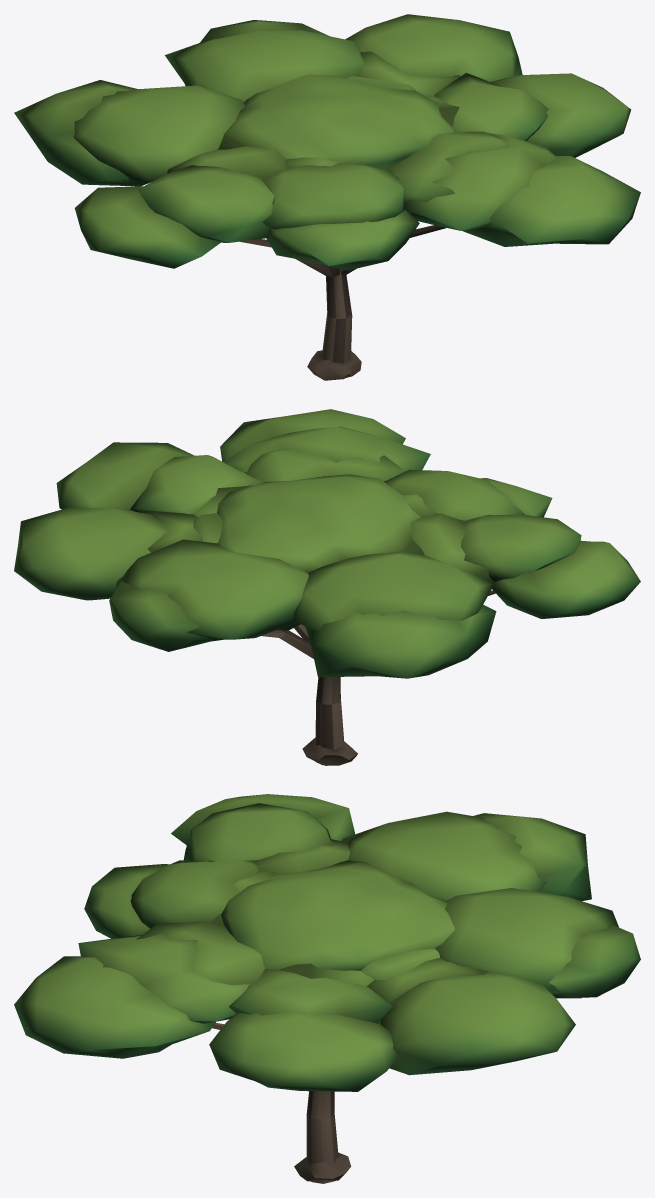
The model's file is rain_tree.glb.
3 views of the same model, one above another, from view 1: azimuth 30°, elevation 25°; view 2: azimuth 150°, elevation 25°; view 3: azimuth 270°, elevation 25° (orthographic). The views are drawn at different scales.
Parts seen in each view (by area): view 1: rain_tree_mesh; view 2: rain_tree_mesh; view 3: rain_tree_mesh.
Part boxes in pixels (x1,y1,x2,y2): rain_tree_mesh: (14,14,640,380); rain_tree_mesh: (14,409,640,765); rain_tree_mesh: (14,794,640,1183).
Bounding box in the file's own units: 26.03 × 12.06 × 24.03.
